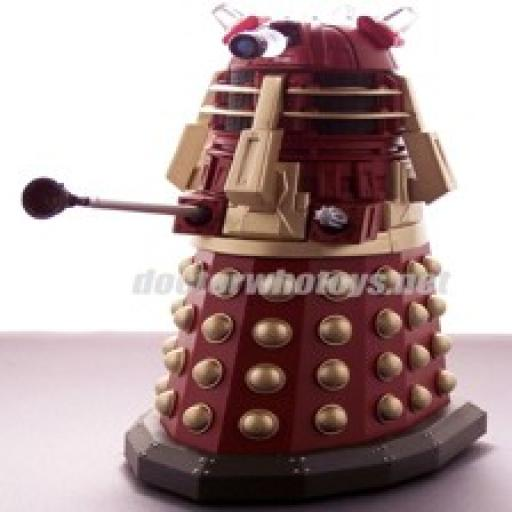dalek: (14, 0, 488, 512)
